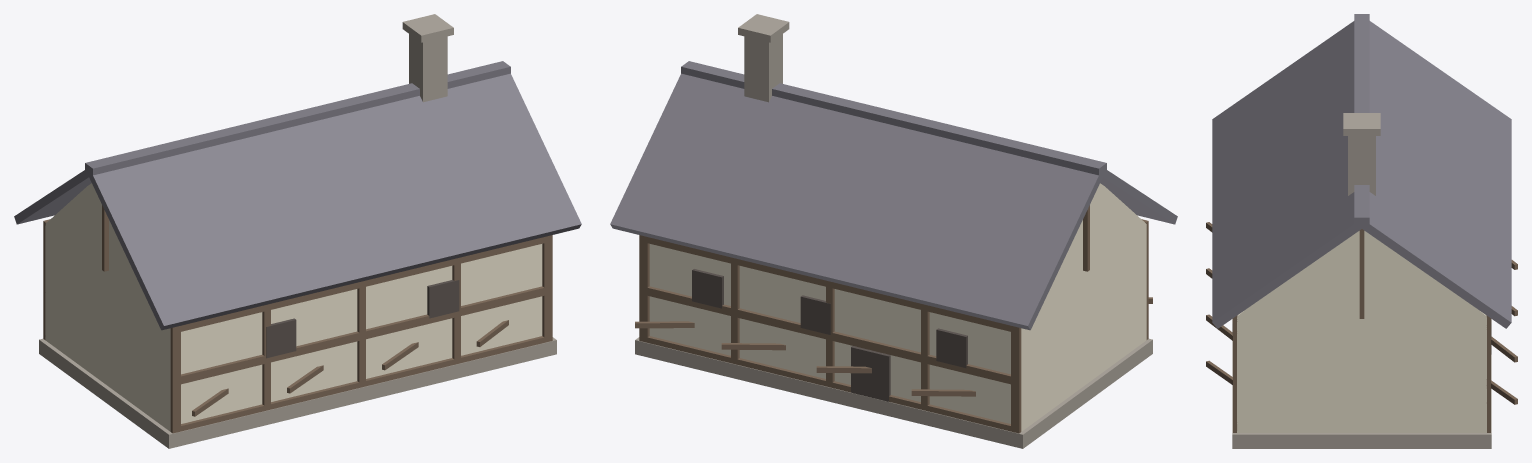
File: farmhouse.glb
3 views of the same model, side by side, from view 1: azimuth 30°, elevation 25°; view 2: azimuth 150°, elevation 25°; view 3: azimuth 270°, elevation 25° (orthographic).
Parts seen in each view (by area): view 1: Roof-1, PlasterWalls, Plinth, RidgeCap, Rail-12.3, GableL, Rail-10.55, Rail-14.15, Chimney, Roof1, Post-1-6.85, WindowB3.0 (+6 smaller); view 2: Roof1, PlasterWalls, Plinth, RidgeCap, GableL, Rail12.3, Rail10.55, Rail14.15, Chimney, Door, Roof-1, Post1-6.85 (+8 smaller); view 3: Roof1, Roof-1, PlasterWalls, GableR, Plinth, RidgeCap, Chimney, ChimneyCap, GablePost1, Post-16.85, Post16.85.
Boxes of the visible parts, bbox=[...] form: Roof-1: bbox=[88, 73, 581, 330]; PlasterWalls: bbox=[45, 224, 542, 431]; Plinth: bbox=[39, 337, 556, 448]; RidgeCap: bbox=[85, 61, 510, 177]; Rail-12.3: bbox=[171, 286, 552, 384]; GableL: bbox=[46, 183, 145, 296]; Rail-10.55: bbox=[171, 335, 552, 432]; Rail-14.15: bbox=[170, 235, 552, 333]; Chimney: bbox=[409, 34, 447, 102]; Roof1: bbox=[14, 170, 91, 224]; Post-1-6.85: bbox=[170, 326, 180, 433]; WindowB3.0: bbox=[427, 280, 459, 318]; Roof1: bbox=[610, 73, 1103, 330]; PlasterWalls: bbox=[649, 224, 1146, 431]; Plinth: bbox=[635, 337, 1152, 448]; RidgeCap: bbox=[681, 61, 1106, 177]; GableL: bbox=[1046, 183, 1145, 296]; Rail12.3: bbox=[639, 286, 1018, 384]; Rail10.55: bbox=[639, 335, 1020, 432]; Rail14.15: bbox=[639, 235, 1018, 333]; Chimney: bbox=[744, 34, 782, 102]; Door: bbox=[851, 346, 890, 401]; Roof-1: bbox=[1100, 169, 1177, 224]; Post1-6.85: bbox=[1011, 326, 1021, 433]; Roof1: bbox=[1360, 21, 1511, 328]; Roof-1: bbox=[1212, 21, 1361, 328]; PlasterWalls: bbox=[1237, 311, 1486, 432]; GableR: bbox=[1237, 231, 1486, 316]; Plinth: bbox=[1232, 319, 1491, 448]; RidgeCap: bbox=[1354, 14, 1369, 227]; Chimney: bbox=[1348, 136, 1375, 195]; ChimneyCap: bbox=[1343, 113, 1380, 135]; GablePost1: bbox=[1359, 229, 1364, 318]; Post-16.85: bbox=[1233, 316, 1236, 432]; Post16.85: bbox=[1486, 316, 1490, 432].
Bounding box in the file's own units: 15.4 × 10.48 × 9.98.
